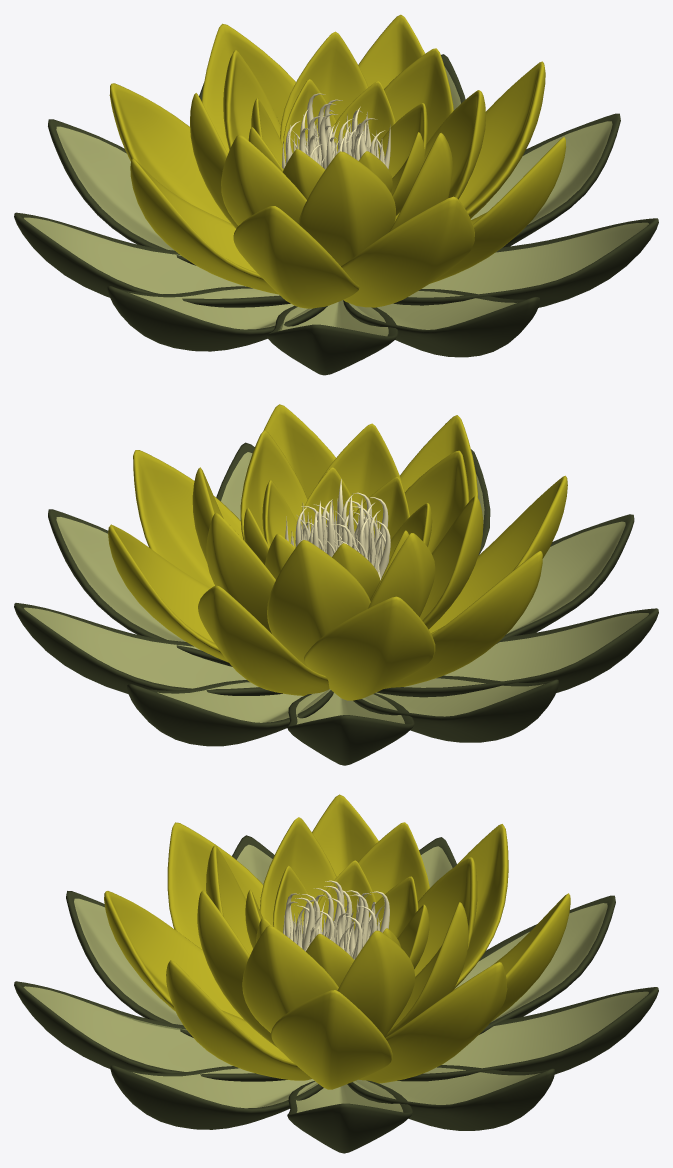
Rendered from lotus.glb.
3 views of the same model, one above another, from view 1: azimuth 30°, elevation 25°; view 2: azimuth 150°, elevation 25°; view 3: azimuth 270°, elevation 25° (orthographic).
Parts seen in each view (by area): view 1: Plane.032, Plane.027, Plane.002, Plane.028, Plane.031, Plane.001, Plane.010, Plane.026, Plane.007, Plane, Plane.030, Plane.004 (+20 smaller); view 2: Plane.024, Plane.028, Plane.007, Plane.025, Plane.027, Plane.015, Plane.030, Plane.006, Plane.004, Plane, Plane.005, Plane.029 (+21 smaller); view 3: Plane.025, Plane.031, Plane.032, Plane.024, Plane.004, Plane.005, Plane.002, Plane.003, Plane.029, Plane.012, Plane.026, Plane.030 (+20 smaller).
Part boxes in pixels (<box>): Plane.032: <box>393,218,658,307</box>; Plane.027: <box>14,212,290,307</box>; Plane.002: <box>341,196,474,307</box>; Plane.028: <box>107,286,327,351</box>; Plane.031: <box>343,289,540,357</box>; Plane.001: <box>233,206,359,308</box>; Plane.010: <box>298,151,395,265</box>; Plane.026: <box>48,119,195,265</box>; Plane.007: <box>109,83,230,223</box>; Plane: <box>130,158,278,294</box>; Plane.030: <box>266,300,398,375</box>; Plane.004: <box>458,61,545,218</box>; Plane.024: <box>14,603,282,695</box>; Plane.028: <box>377,608,658,697</box>; Plane.007: <box>304,596,435,700</box>; Plane.025: <box>127,680,333,746</box>; Plane.027: <box>353,675,558,742</box>; Plane.015: <box>267,540,370,667</box>; Plane.030: <box>496,514,634,643</box>; Plane.006: <box>198,585,329,695</box>; Plane.004: <box>133,450,242,587</box>; Plane: <box>384,551,542,688</box>; Plane.005: <box>108,524,228,662</box>; Plane.029: <box>48,509,232,666</box>; Plane.025: <box>397,987,658,1081</box>; Plane.031: <box>14,981,287,1081</box>; Plane.032: <box>110,1065,323,1129</box>; Plane.024: <box>347,1065,554,1130</box>; Plane.004: <box>271,990,392,1089</box>; Plane.005: <box>358,962,507,1083</box>; Plane.002: <box>104,891,243,1019</box>; Plane.003: <box>166,960,311,1080</box>; Plane.029: <box>287,1079,412,1153</box>; Plane.012: <box>242,925,338,1032</box>; Plane.026: <box>455,895,615,1034</box>; Plane.030: <box>66,891,193,1037</box>.
Bounding box in the file's own units: 3.95 × 1.44 × 4.
Materials: 3 (3 with a texture image).
